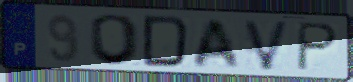9: (45, 12, 82, 64)
A: (190, 18, 243, 70)
D: (140, 13, 192, 69)
O: (88, 13, 143, 67)
P: (294, 21, 341, 73)
V: (241, 18, 292, 72)
